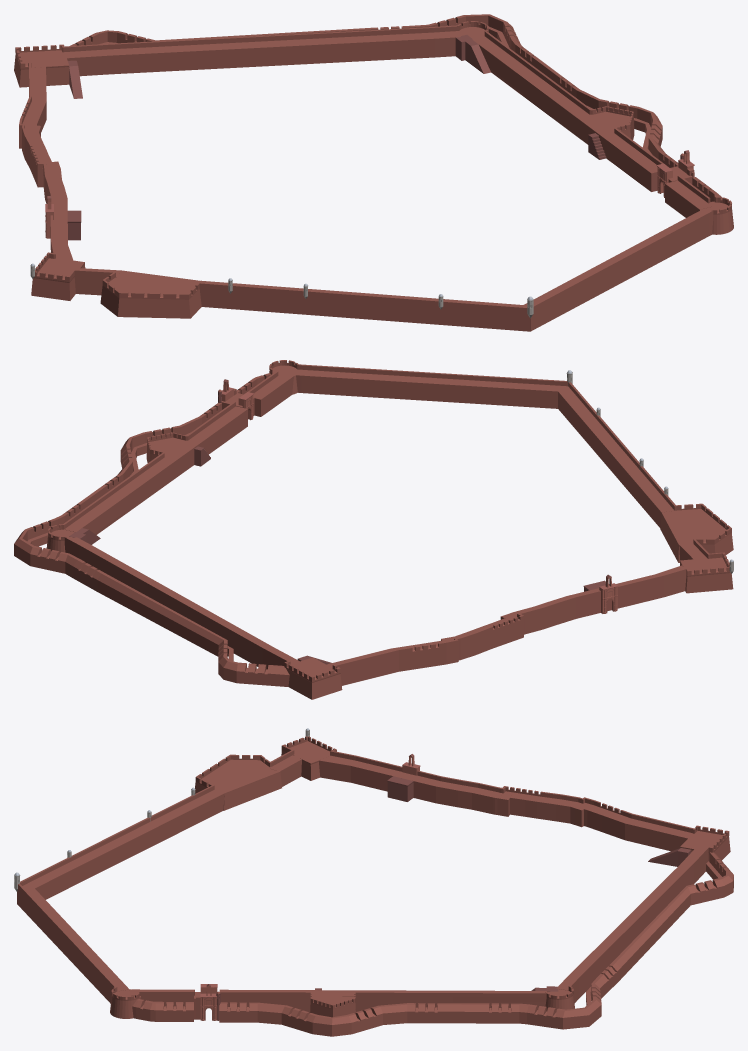
The model's file is Fort.fbx.
3 renders of one model, top to bottom at view 1: azimuth 30°, elevation 25°; view 2: azimuth 150°, elevation 25°; view 3: azimuth 270°, elevation 25°, orthographic. The views are drawn at different scales.
Visible parts, largest first — view 1: Cube.074, Cube.051, Cylinder.013, Cube.044; view 2: Cube.074, Cube.051; view 3: Cube.074, Cube.051, Cube.046, Cylinder.013, Cube.073.
Part boxes in pixels (x1,y1,x2,y2): Cube.074: [14, 21, 713, 331]; Cube.051: [69, 14, 678, 167]; Cylinder.013: [699, 196, 733, 234]; Cube.044: [455, 35, 490, 73]; Cube.074: [46, 364, 733, 699]; Cube.051: [14, 402, 289, 686]; Cube.074: [17, 736, 730, 1017]; Cube.051: [219, 852, 733, 1036]; Cube.046: [132, 999, 193, 1021]; Cylinder.013: [110, 986, 141, 1018]; Cube.073: [387, 776, 413, 801].
Size of the model in its own units: 20187 by 1176 by 21867.
